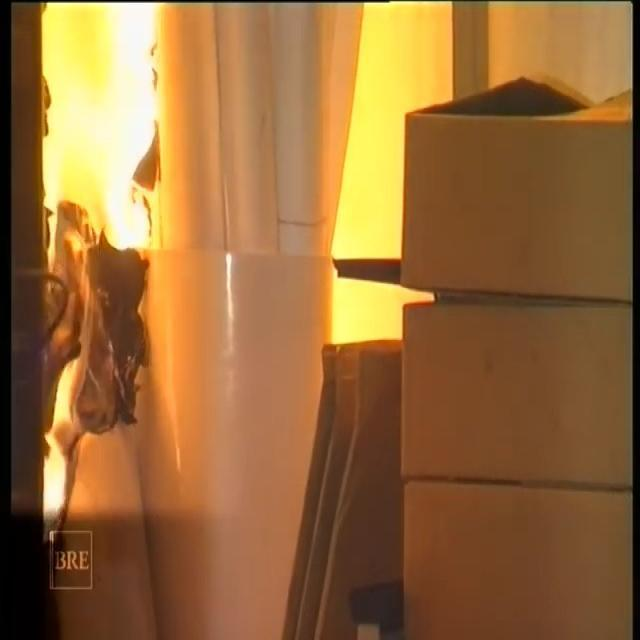Fire: (6, 0, 342, 287)
